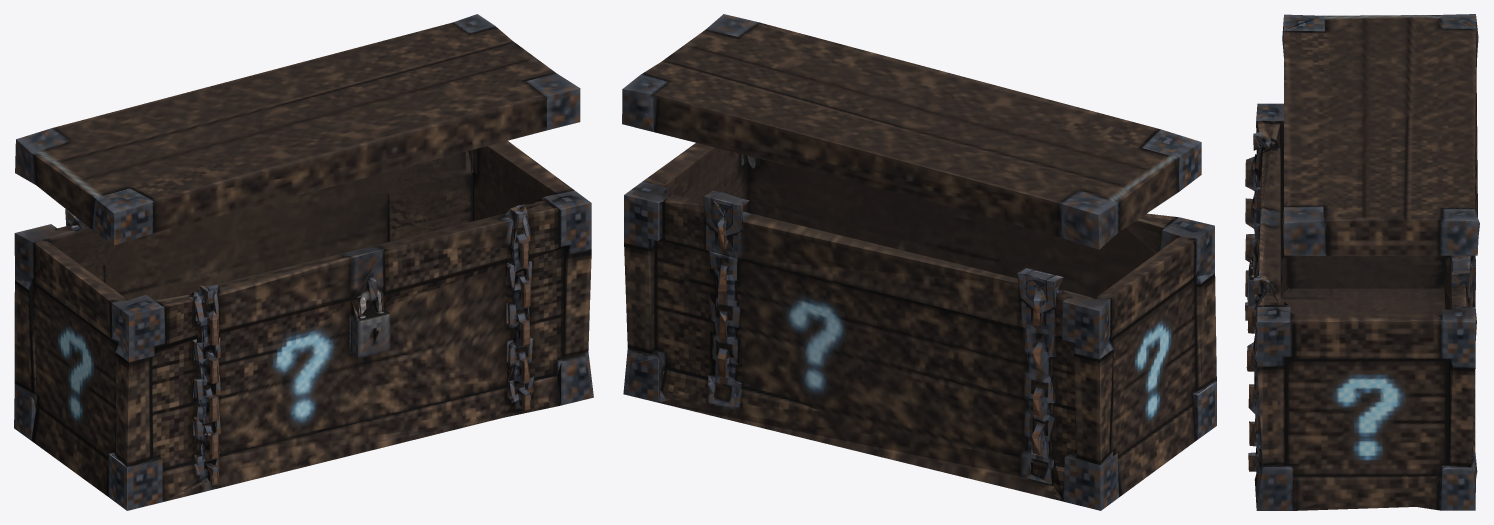
Rendered from Meshy_AI_model.glb.
3 views of the same model, side by side, from view 1: azimuth 30°, elevation 25°; view 2: azimuth 150°, elevation 25°; view 3: azimuth 270°, elevation 25° (orthographic). The views are drawn at different scales.
Visible parts, largest first — view 1: output_unwrapped; view 2: output_unwrapped; view 3: output_unwrapped.
Boxes of the visible parts, <box> form: output_unwrapped: <box>14,14,593,510</box>; output_unwrapped: <box>622,14,1216,510</box>; output_unwrapped: <box>1245,14,1479,510</box>.
Size of the model in its own units: 1.89 by 1.16 by 0.8508.
1 material, 1 textured.
